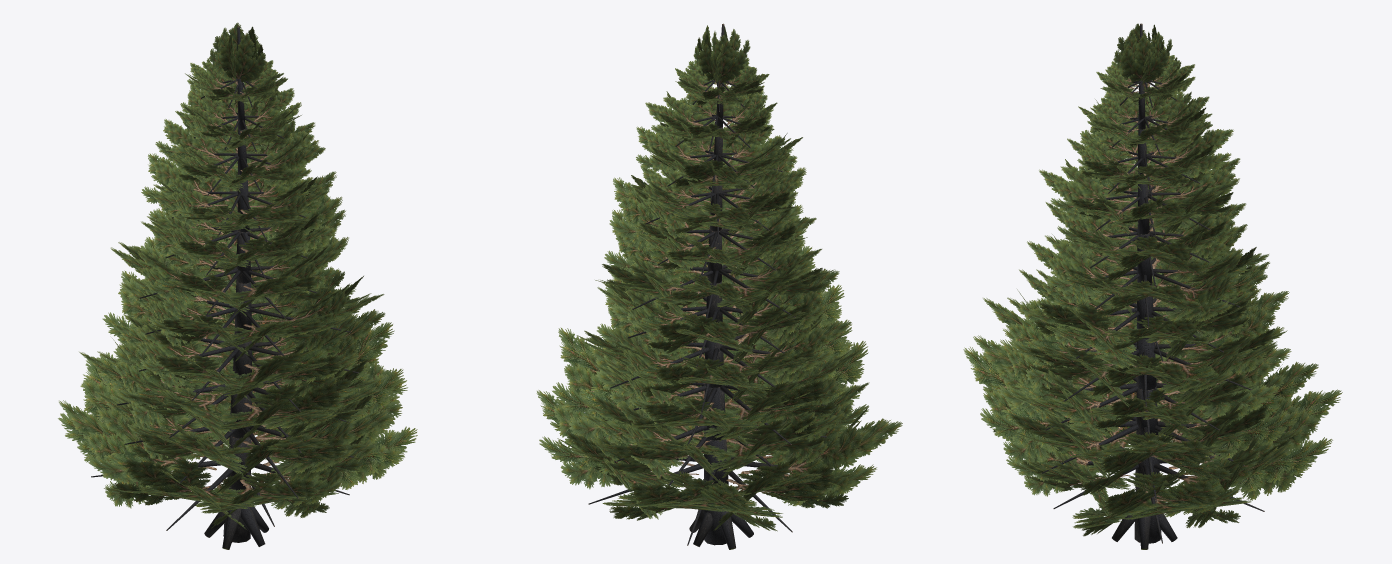
Rendered from pine-v3.glb.
3 views of the same model, side by side, from view 1: azimuth 30°, elevation 25°; view 2: azimuth 150°, elevation 25°; view 3: azimuth 270°, elevation 25° (orthographic).
Parts seen in each view (by area): view 1: EvergreenPineV3; view 2: EvergreenPineV3; view 3: EvergreenPineV3.
Boxes of the visible parts, left/top/right/bottom form: EvergreenPineV3: left=58, top=22, right=417, bottom=549; EvergreenPineV3: left=536, top=23, right=902, bottom=549; EvergreenPineV3: left=963, top=23, right=1342, bottom=549.
Bounding box in the file's own units: 3.27 × 4.33 × 3.33.
2 materials, 2 textured.
